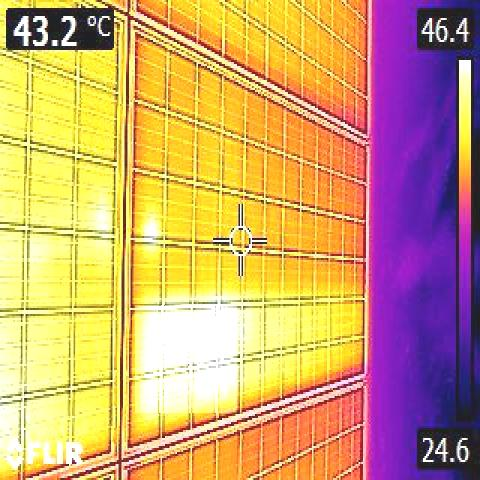fault: (136, 305, 238, 413), (141, 222, 157, 253)
